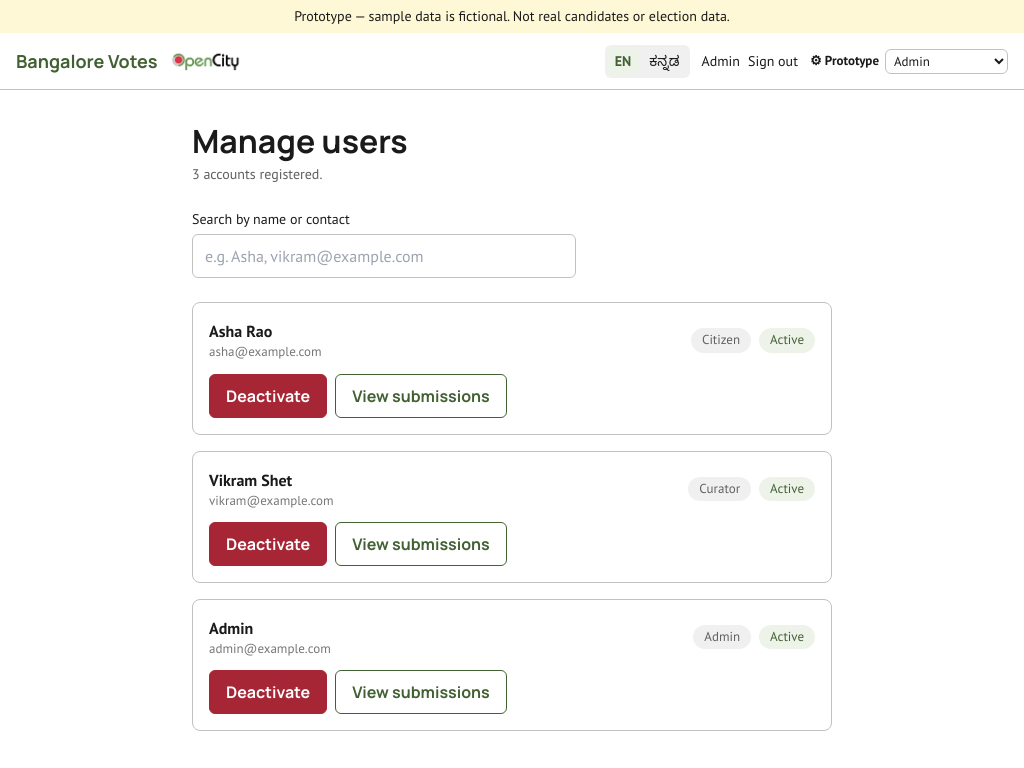
Test: admin toggles a user inactive, and listUsers() reflects active:false
The width and height of the screenshot is (1024, 768).
Click the button "Deactivate" below "Asha Rao" at (268, 396), box [209, 374, 327, 418]
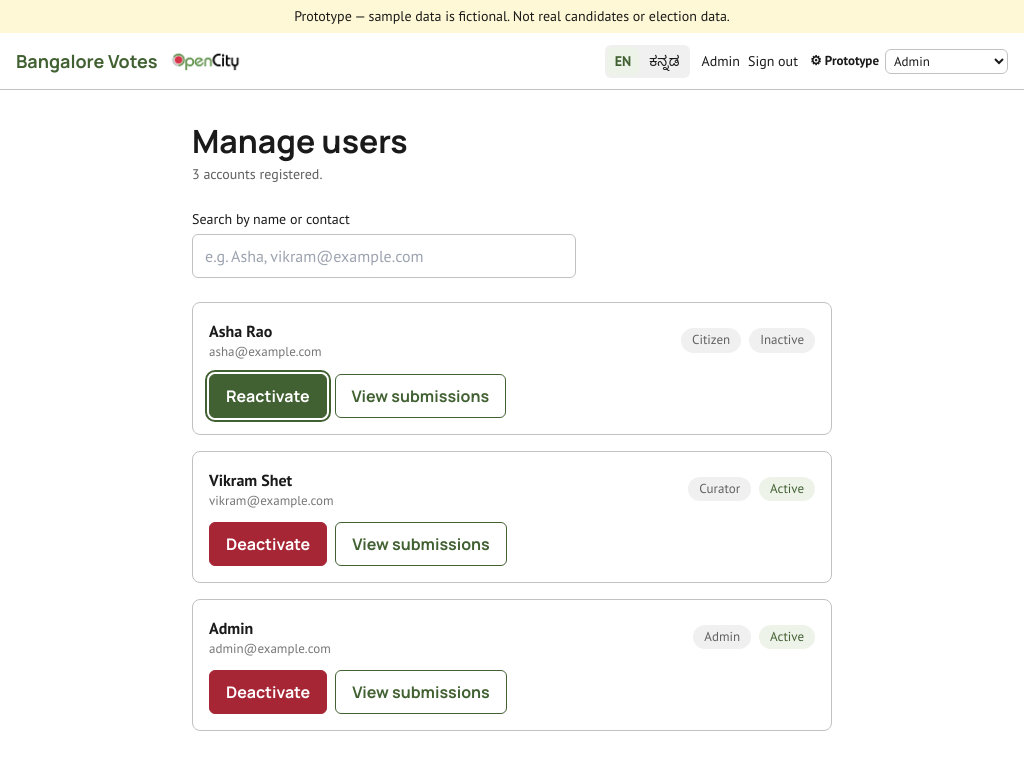
Check: the button "Reactivate" is shown, box [209, 374, 327, 418]
